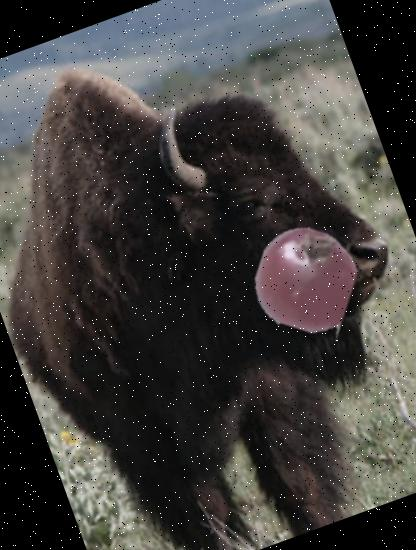Redcurrant: (238, 213, 371, 346)
